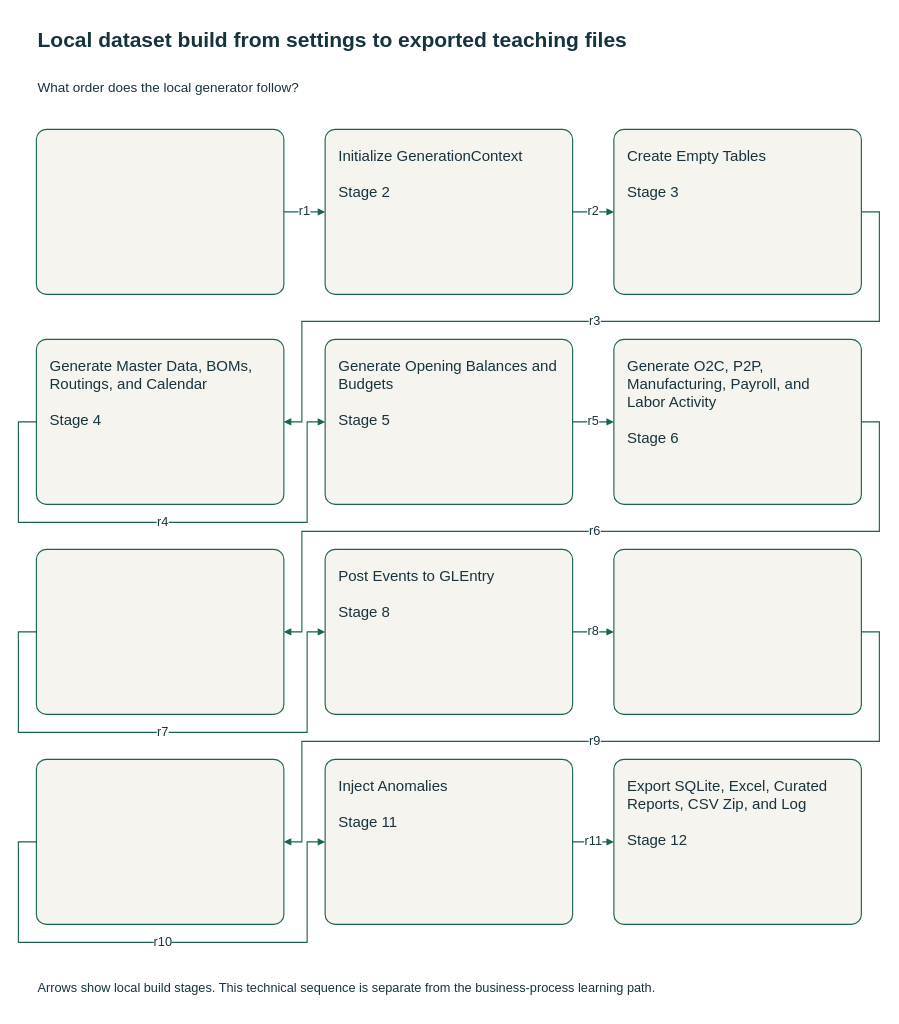
Image size: 899x1024. Some labels were removed from this diagram. The box of each missing label's shape, as (x1, y1, x2, y2) in pixels:
Generate Recurring Journals and Accrual Activity Stage 7: (35, 548, 284, 715)
Generate Year-End Close Journals Stage 9: (613, 548, 862, 715)
Load Settings Stage 1: (35, 128, 284, 295)
Run Validations Stage 10: (35, 758, 284, 925)
